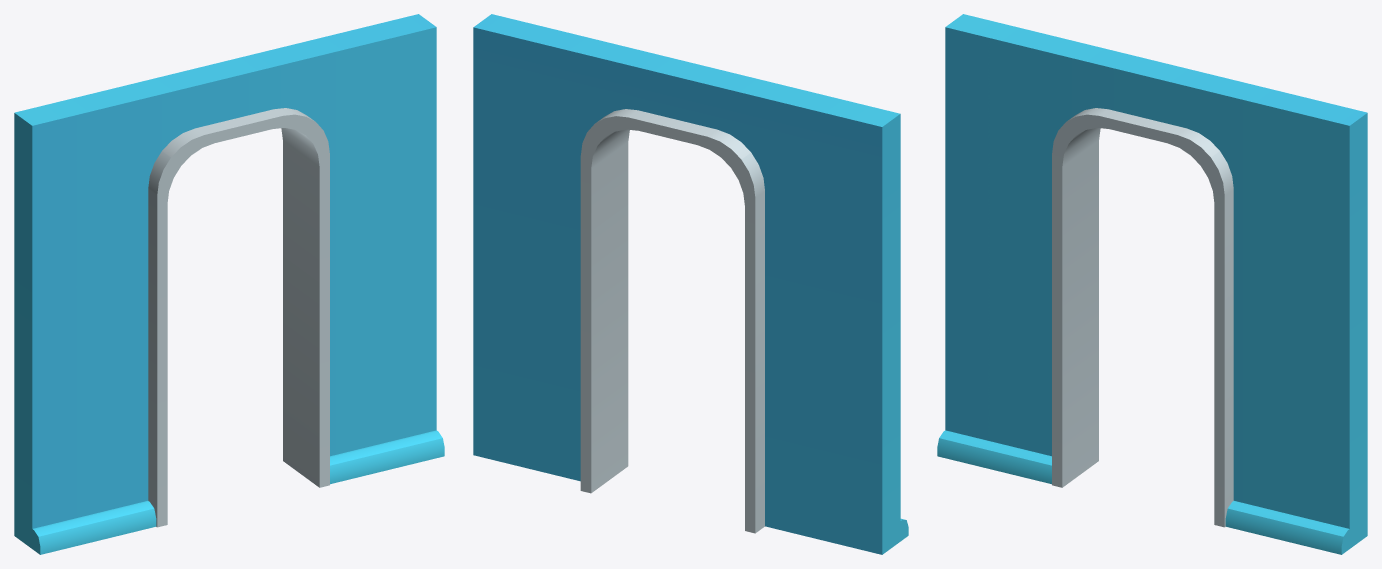
Rendered from DoorWall002.fbx.
The picture shows the model from 3 angles, left to right: view 1: azimuth 30°, elevation 25°; view 2: azimuth 150°, elevation 25°; view 3: azimuth 330°, elevation 25°; orthographic projection.
Visible parts, largest first — view 1: DoorWall002; view 2: DoorWall002; view 3: DoorWall002.
Part boxes in pixels (x1,y1,x2,y2): DoorWall002: [14, 14, 444, 554]; DoorWall002: [473, 14, 908, 554]; DoorWall002: [937, 14, 1367, 554].
Size of the model in its own units: 250 by 250 by 39.35.
